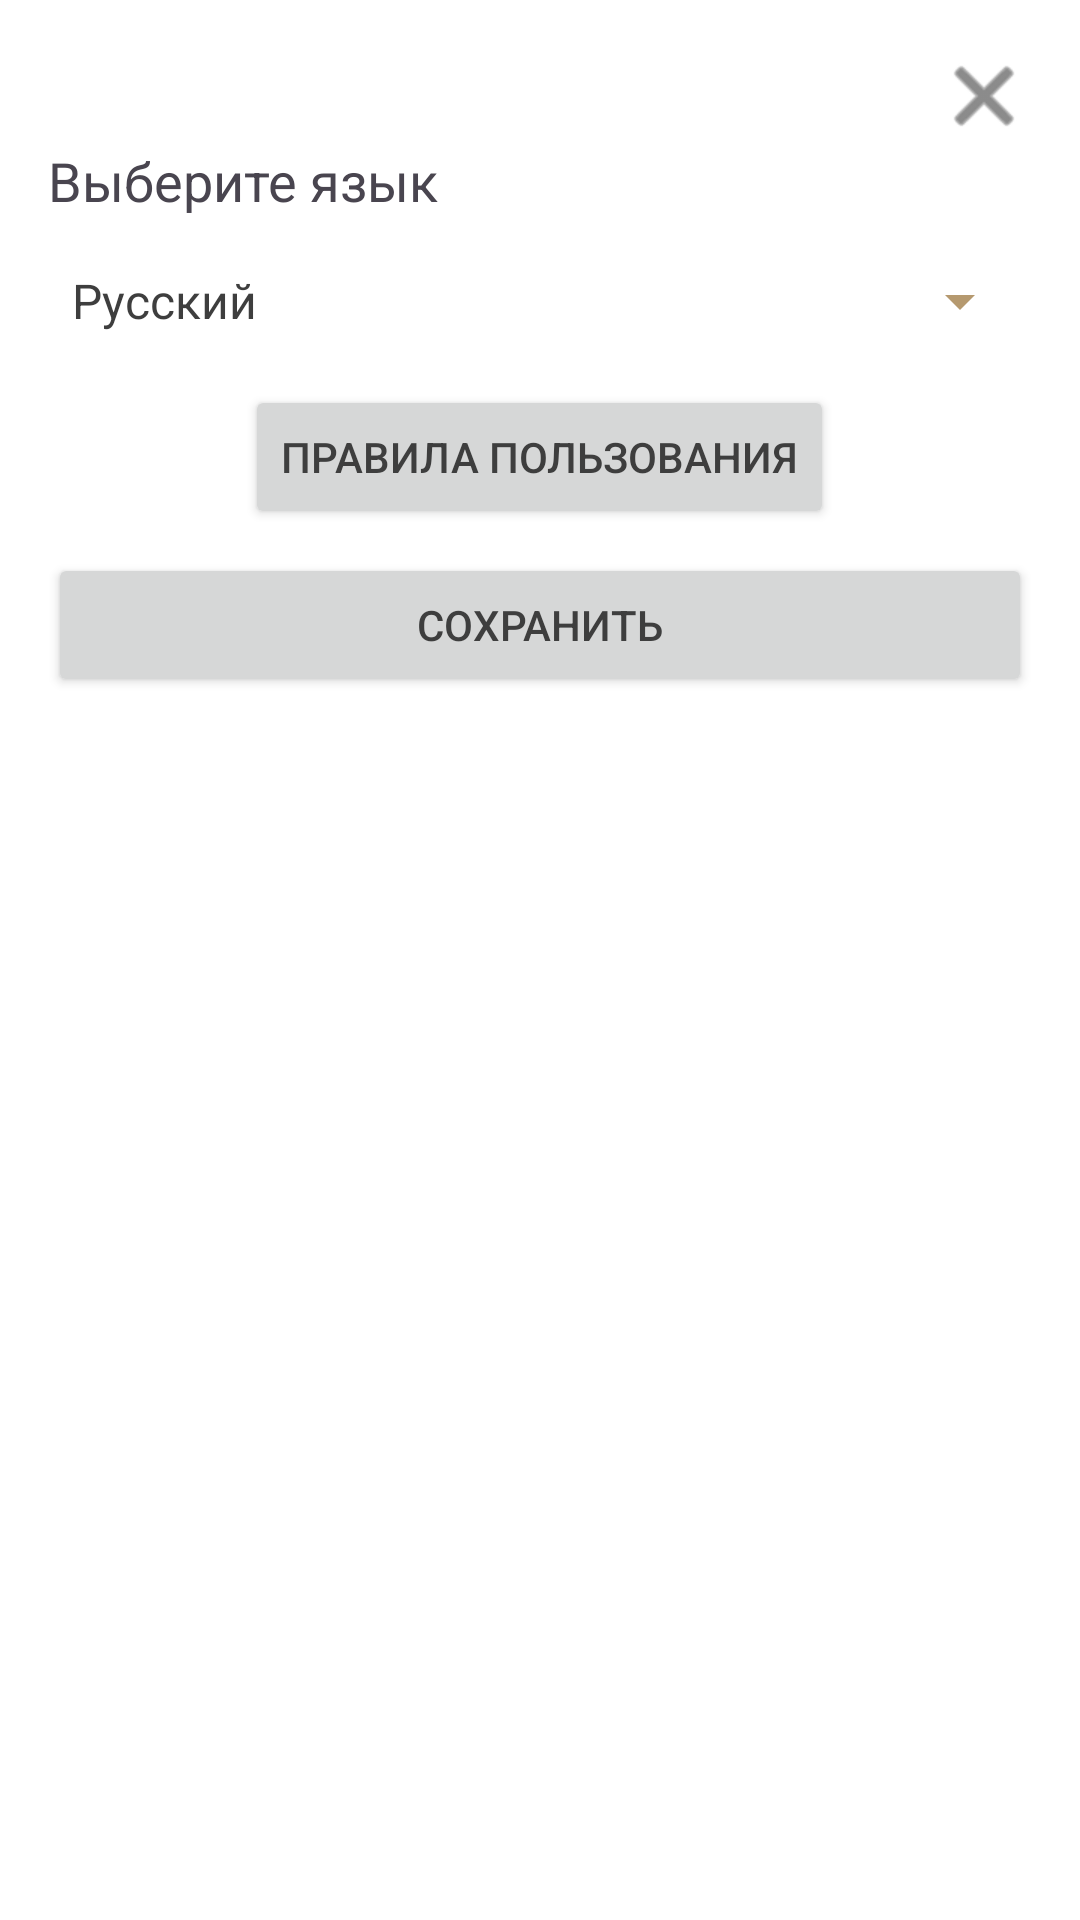

Screen size 1080w x 1920h. Icon name, then its center in pixels as (x,y):
Закрыть: (984,96)
